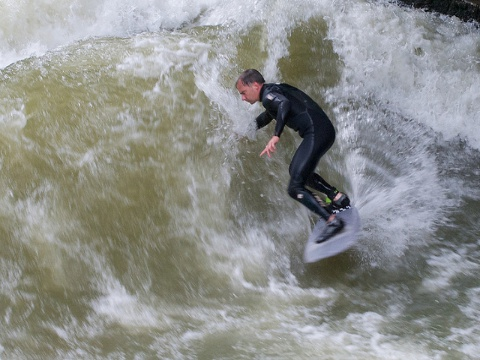hand: (259, 137, 281, 159)
